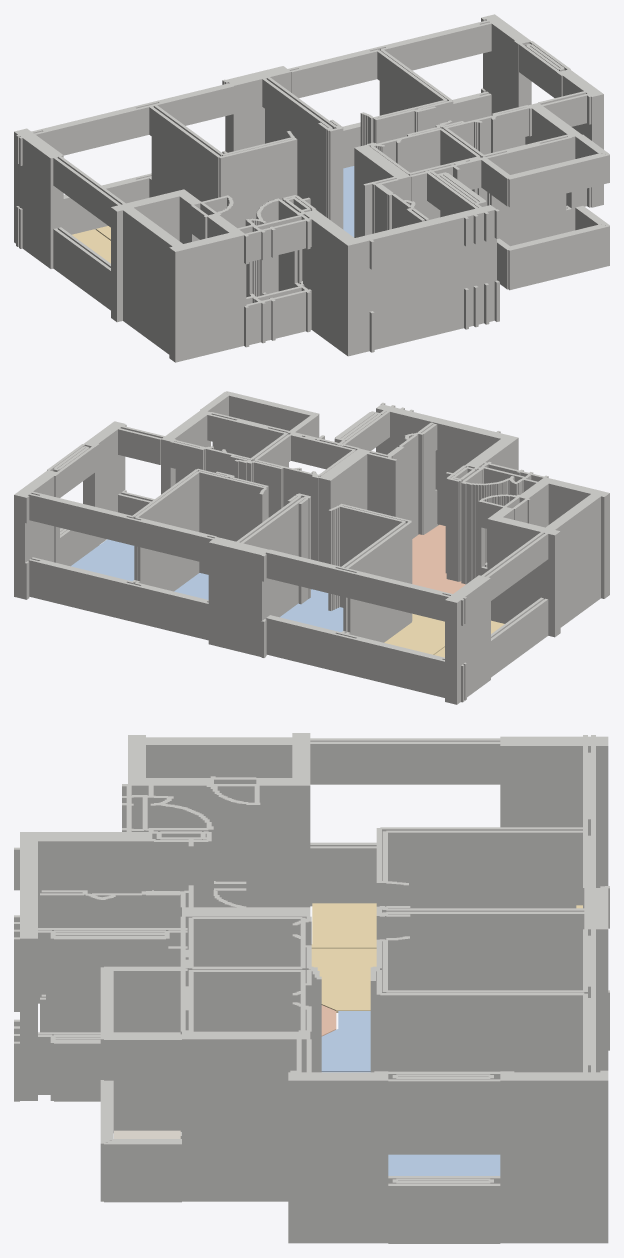
The picture shows the model from 3 angles, top to bottom: view 1: azimuth 30°, elevation 25°; view 2: azimuth 150°, elevation 25°; view 3: azimuth 270°, elevation 25°; orthographic projection. The views are drawn at different scales.
Parts seen in each view (by area): view 1: walls, room:bedroom:0, room:living:9; view 2: walls, room:kitchen:6, room:bedroom:1, room:living:10, room:bedroom:8, room:bedroom:0; view 3: walls, room:living:10, room:living:9, room:bedroom:8, room:bedroom:1.
Boxes of the visible parts, x1,y1,x2,y2 form: walls: (14, 14, 609, 362); room:bedroom:0: (343, 166, 354, 237); room:living:9: (72, 229, 110, 263); walls: (14, 391, 609, 704); room:kitchen:6: (412, 524, 465, 593); room:bedroom:1: (71, 539, 134, 581); room:living:10: (384, 613, 444, 654); room:bedroom:8: (280, 589, 343, 632); room:bedroom:0: (174, 573, 311, 599); walls: (14, 733, 609, 1243); room:living:10: (311, 948, 376, 1012); room:living:9: (311, 903, 582, 948); room:bedroom:8: (321, 1011, 370, 1071); room:bedroom:1: (388, 1154, 500, 1175).
Size of the model in its own units: 12.88 by 2.8 by 9.31.
